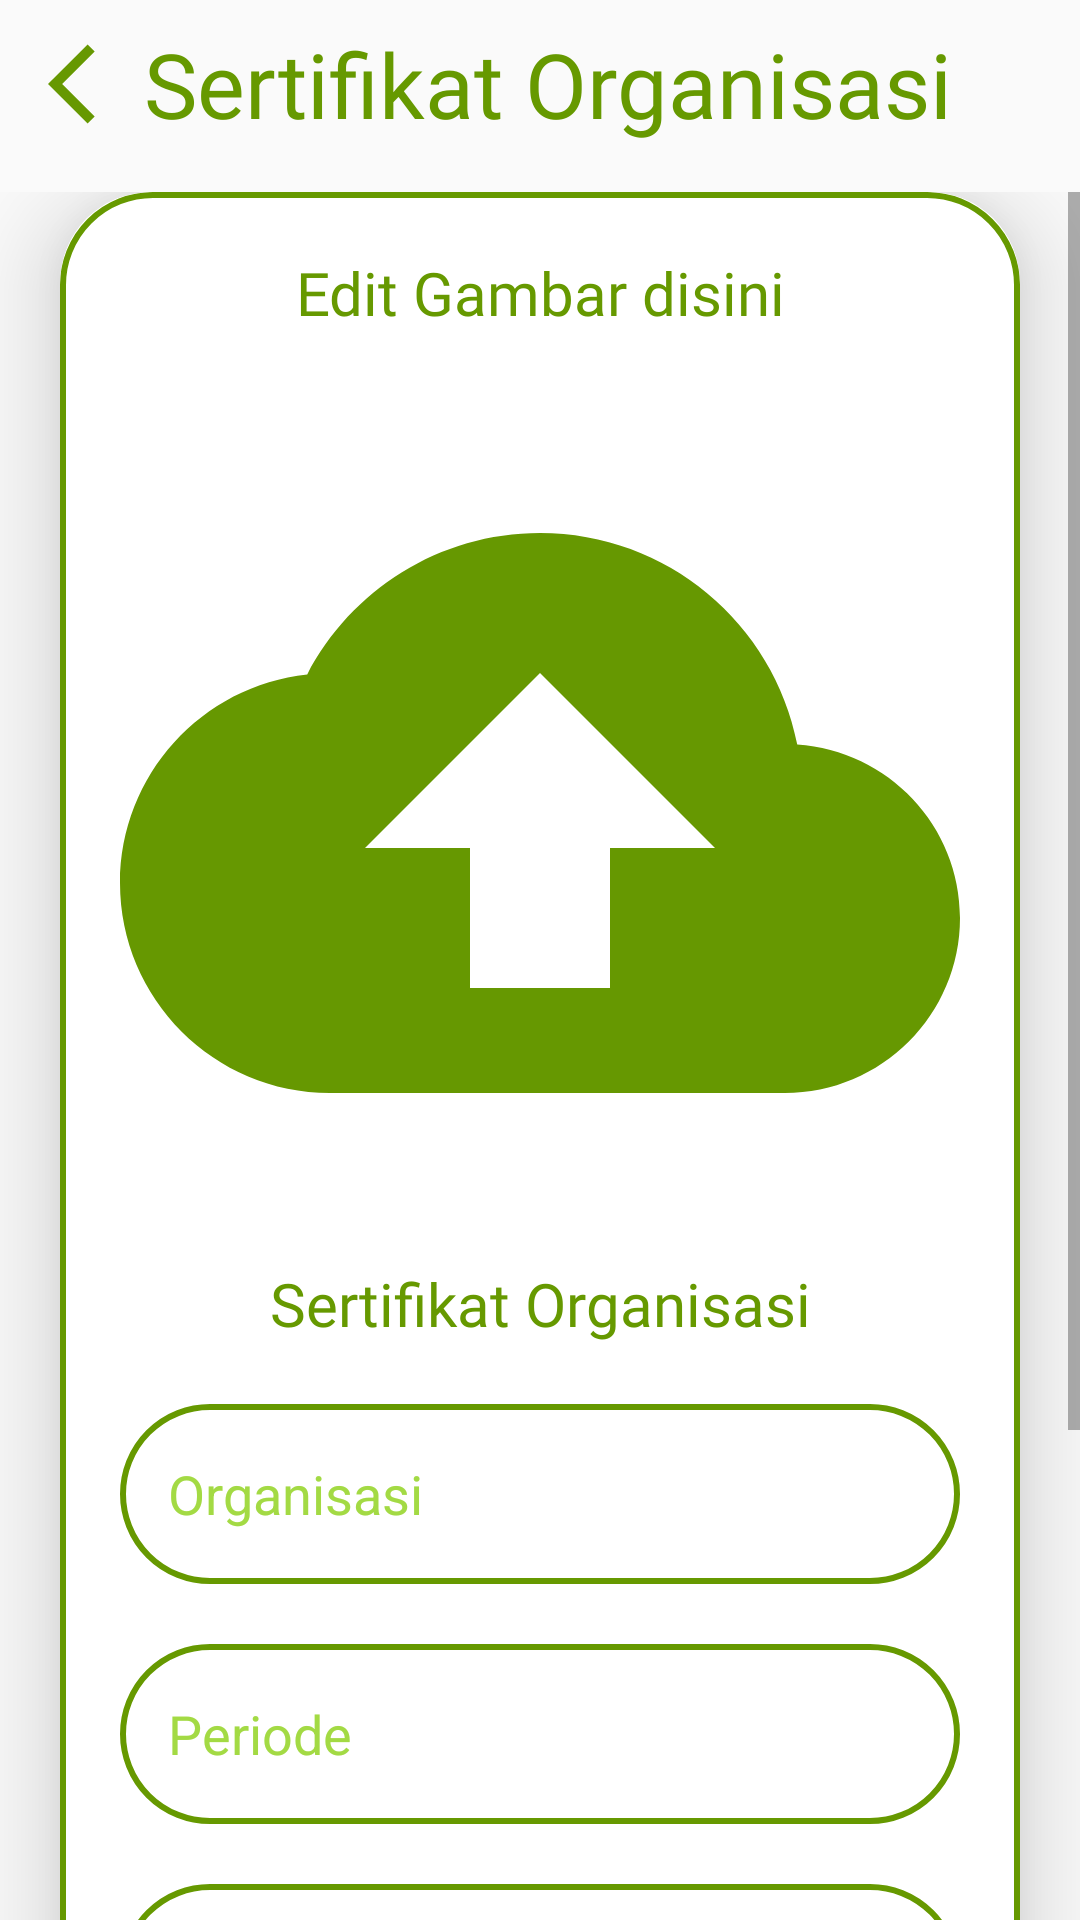

Icons on this 1080px×1920px Android screen, each with the point to tap as [x,y]:
backicon: [71,84]
